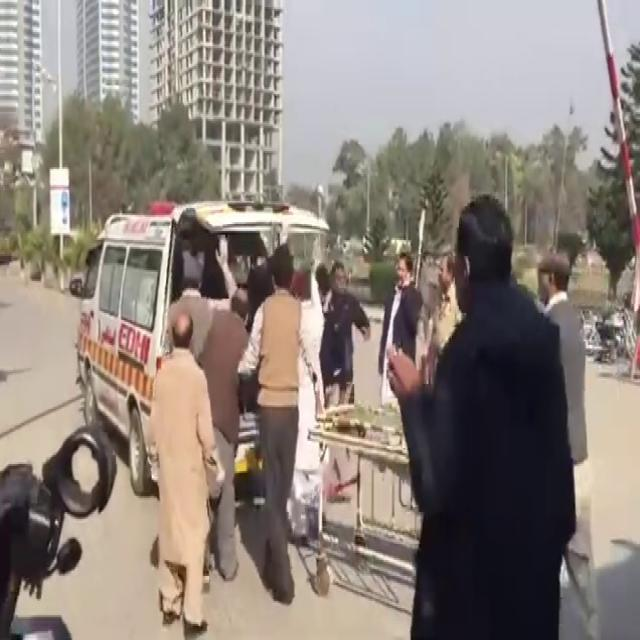ambulance: (87, 188, 316, 474)
